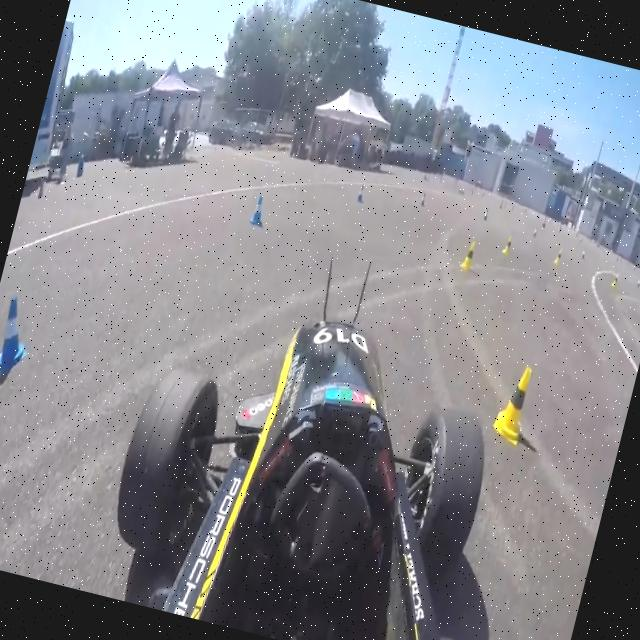blue_cone: (0, 294, 41, 380), (248, 193, 268, 228), (356, 182, 368, 204)
yellow_cone: (488, 360, 538, 446), (458, 237, 478, 273), (501, 235, 515, 258)
